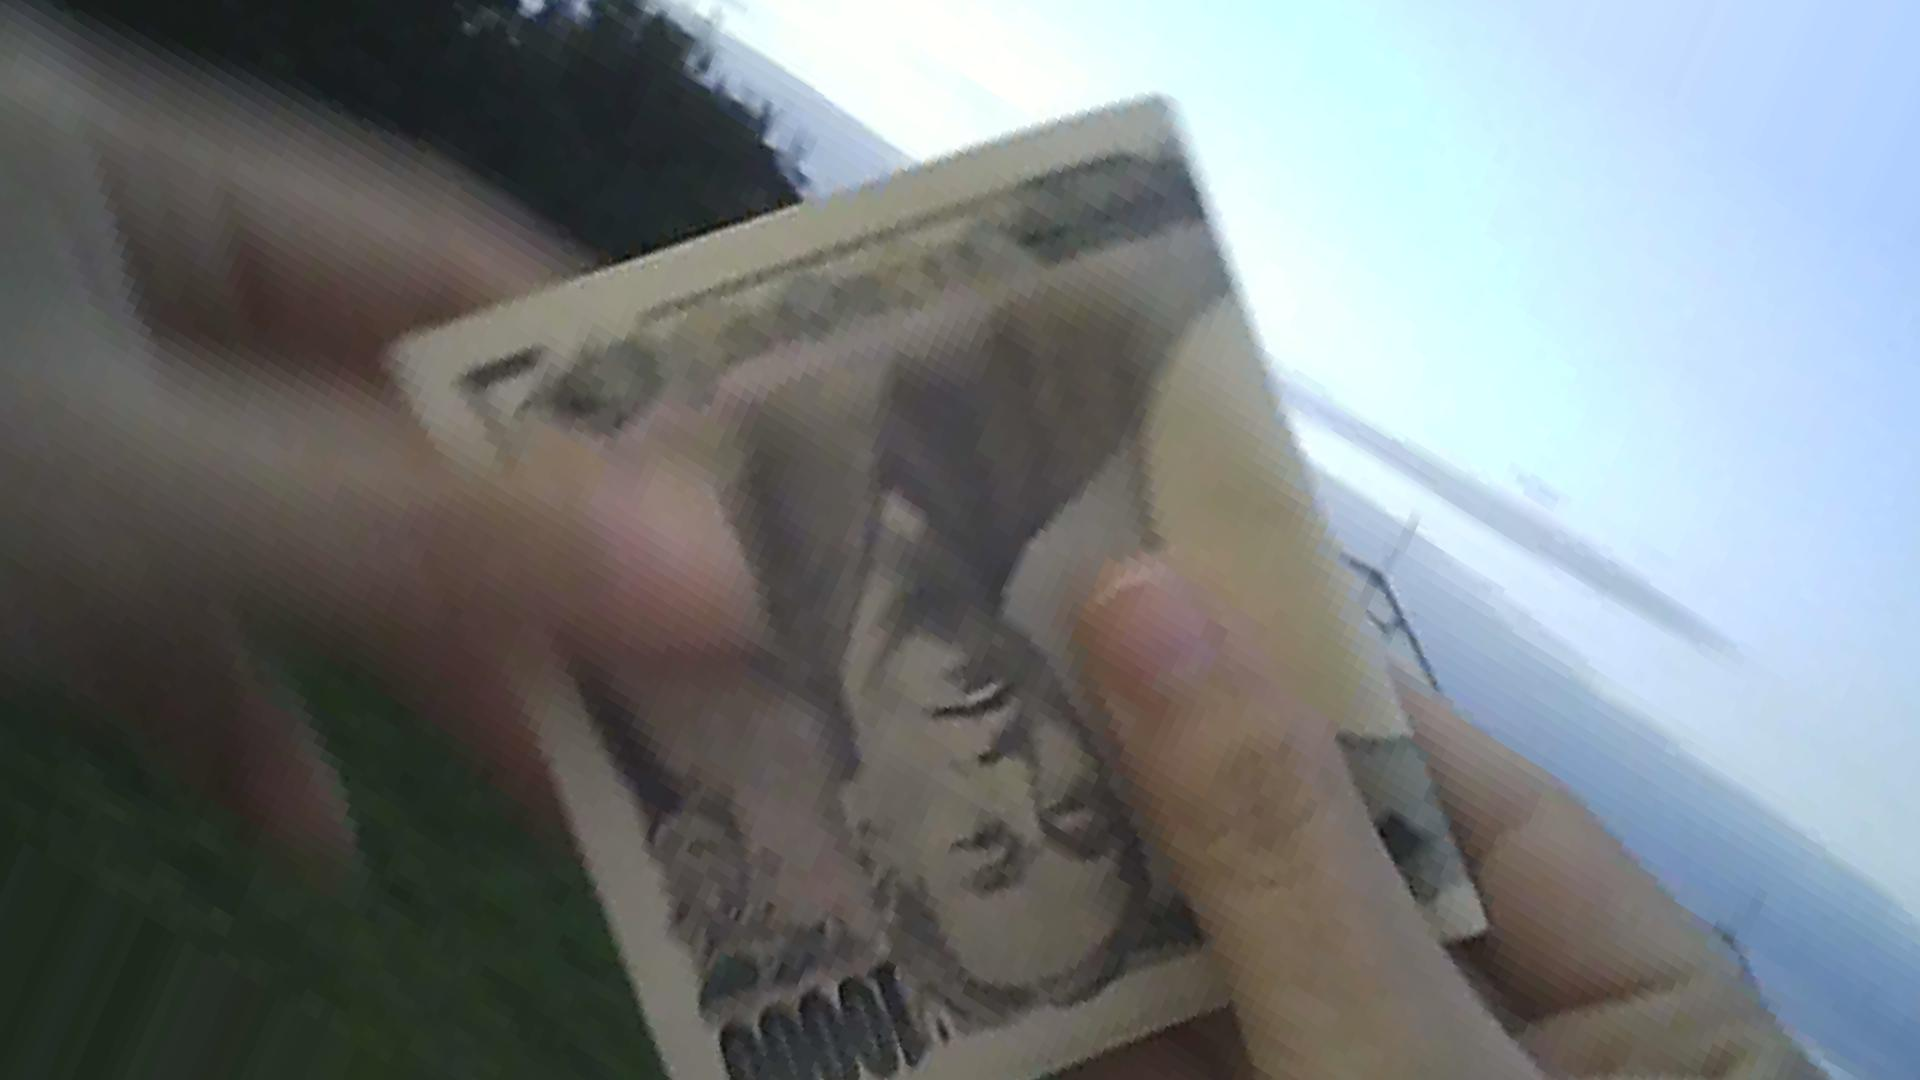10,000 Yen: (388, 102, 1440, 1079)
